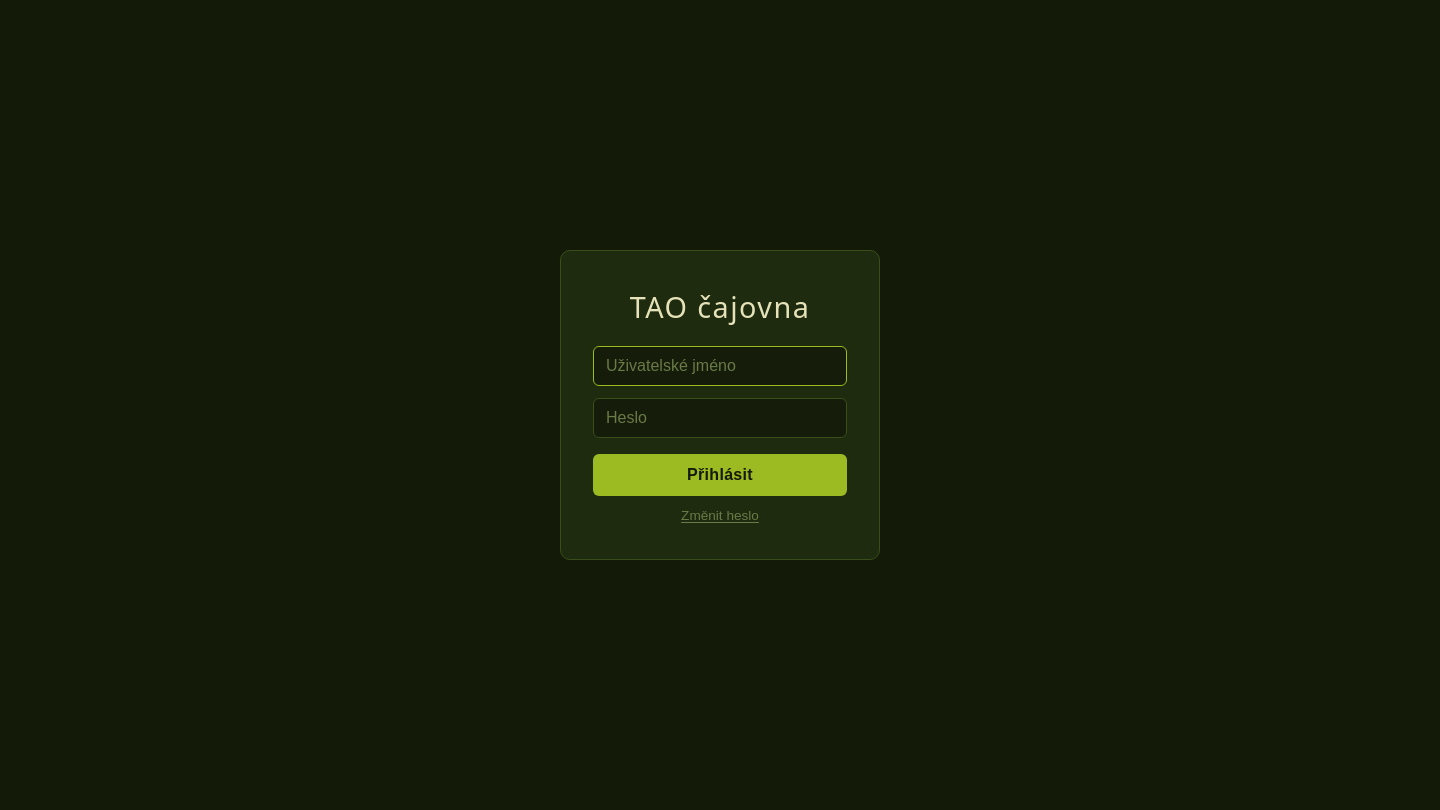
Test: Login › umožní změnu hesla přes modal a zavolá changePassword
Click the button "Změnit heslo" at [720, 516], box [593,508,847,523]
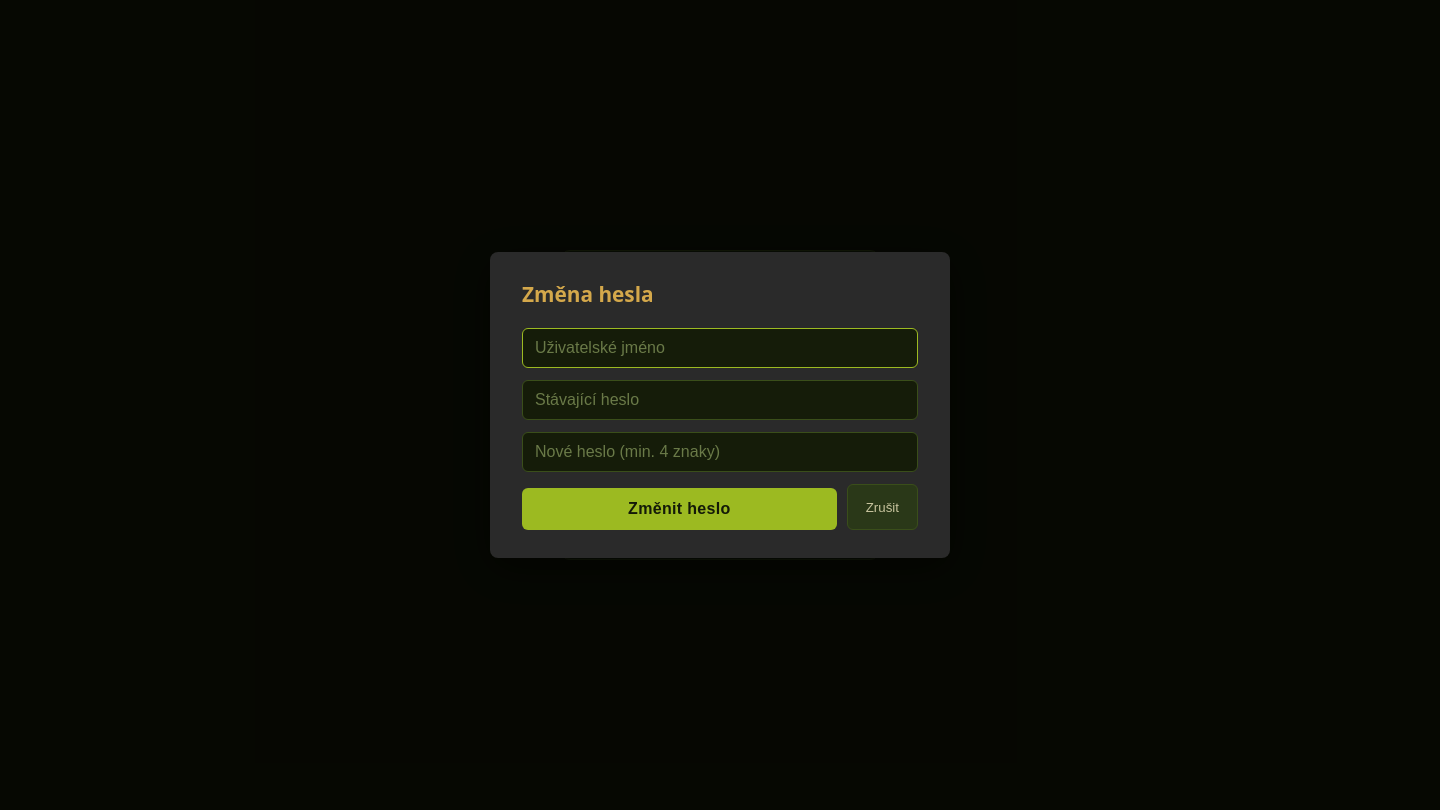
Type "terka" into the field with placeholder "Uživatelské jméno" at [720, 348], box [522,328,918,368]
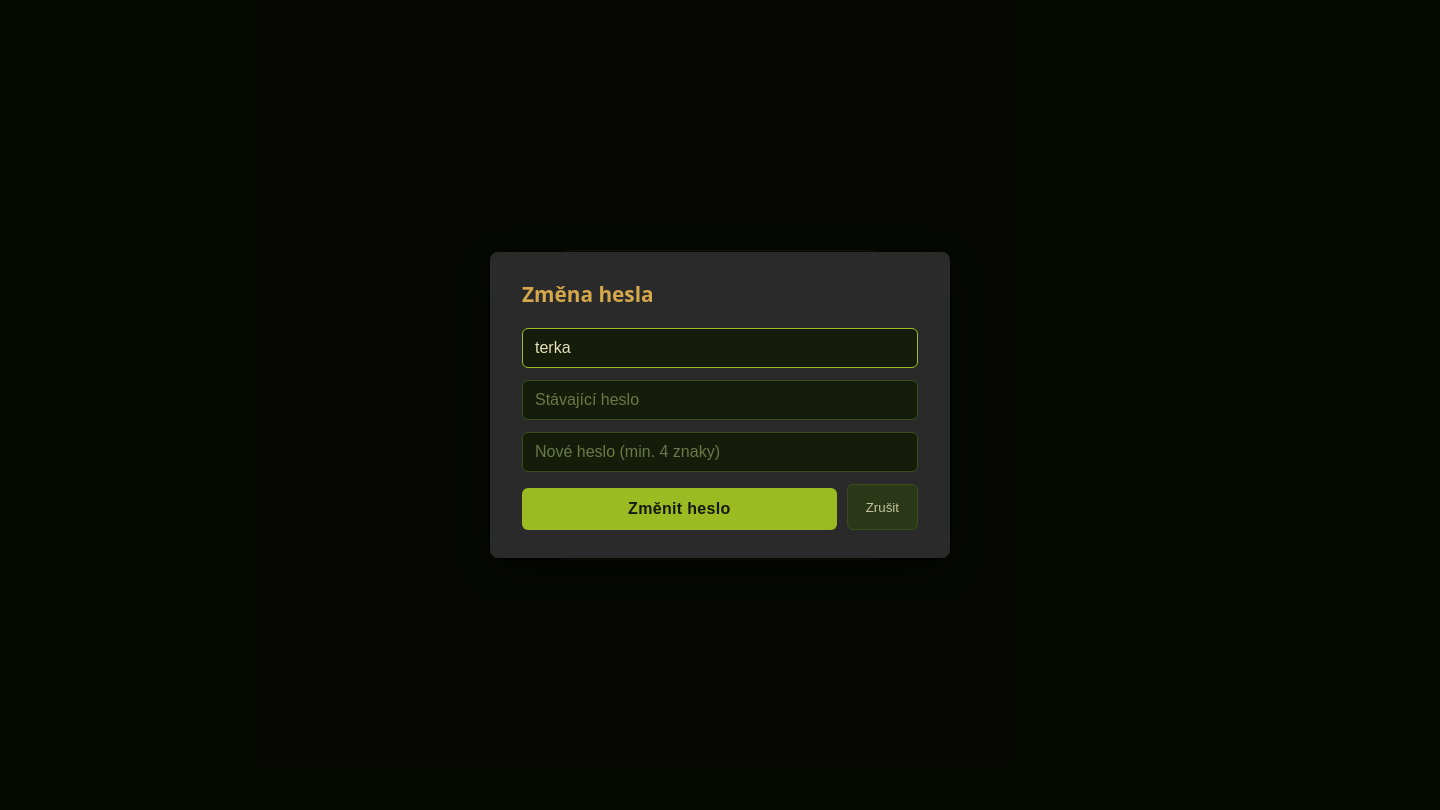
Type "stare123" into the password field with placeholder "Stávající heslo" at [720, 400], box [522,380,918,420]
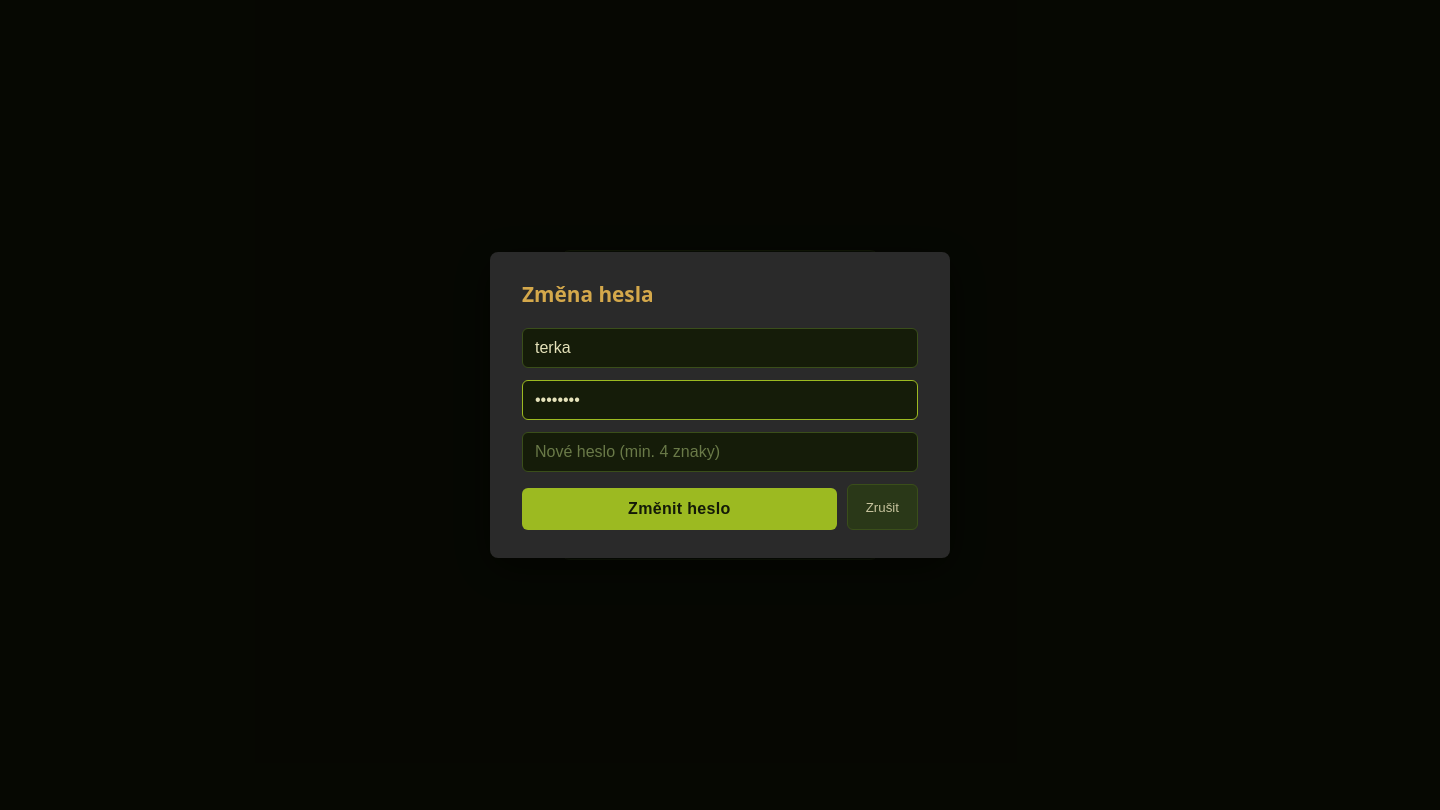
Type "nove123" into the password field with placeholder "Nové heslo (min. 4 znaky)" at [720, 452], box [522,432,918,472]
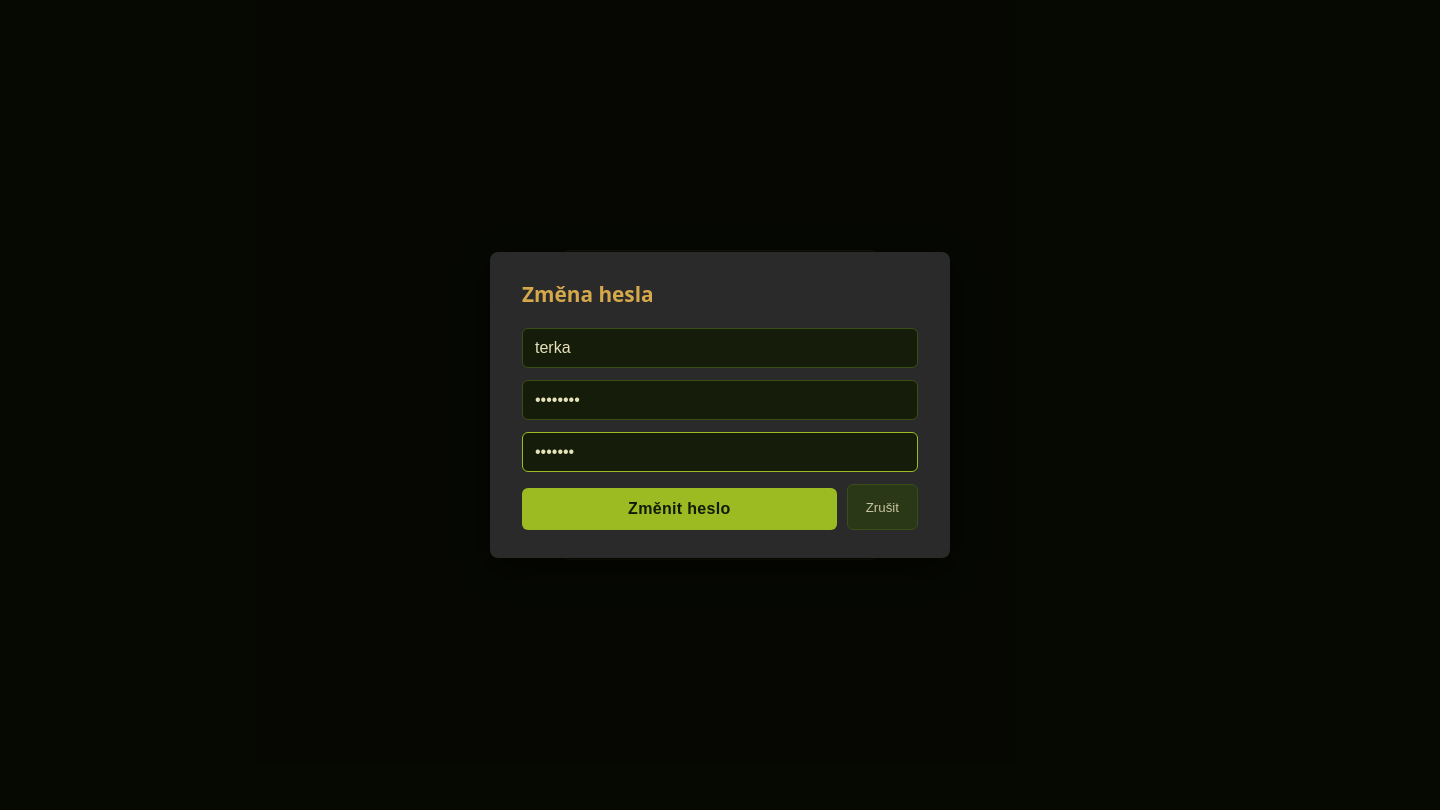
Click the button "Změnit heslo" at [679, 509], box [522,488,837,530]
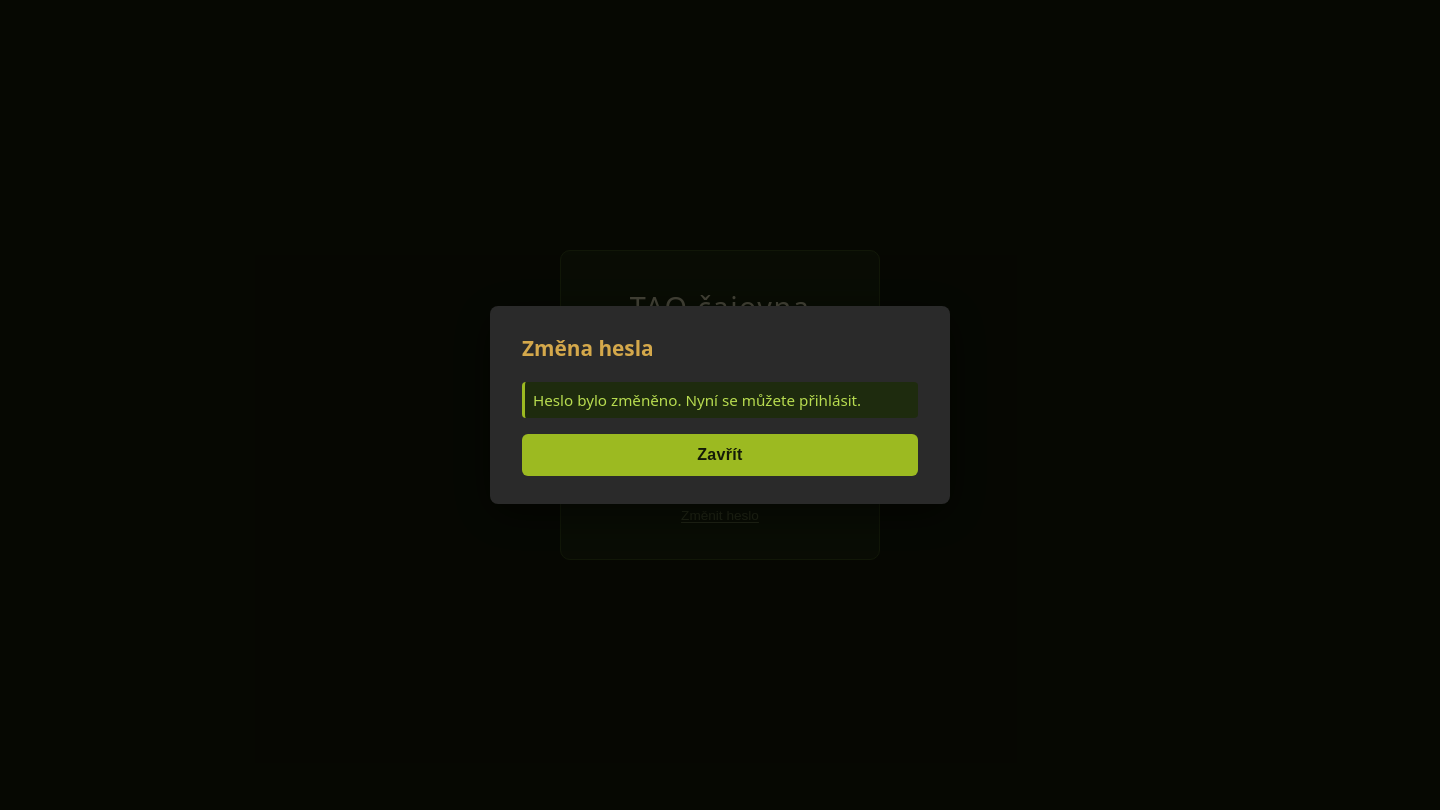
Expected: the text "Heslo bylo změněno. Nyní se můžete přihlásit." is shown, [522,382,918,418]
